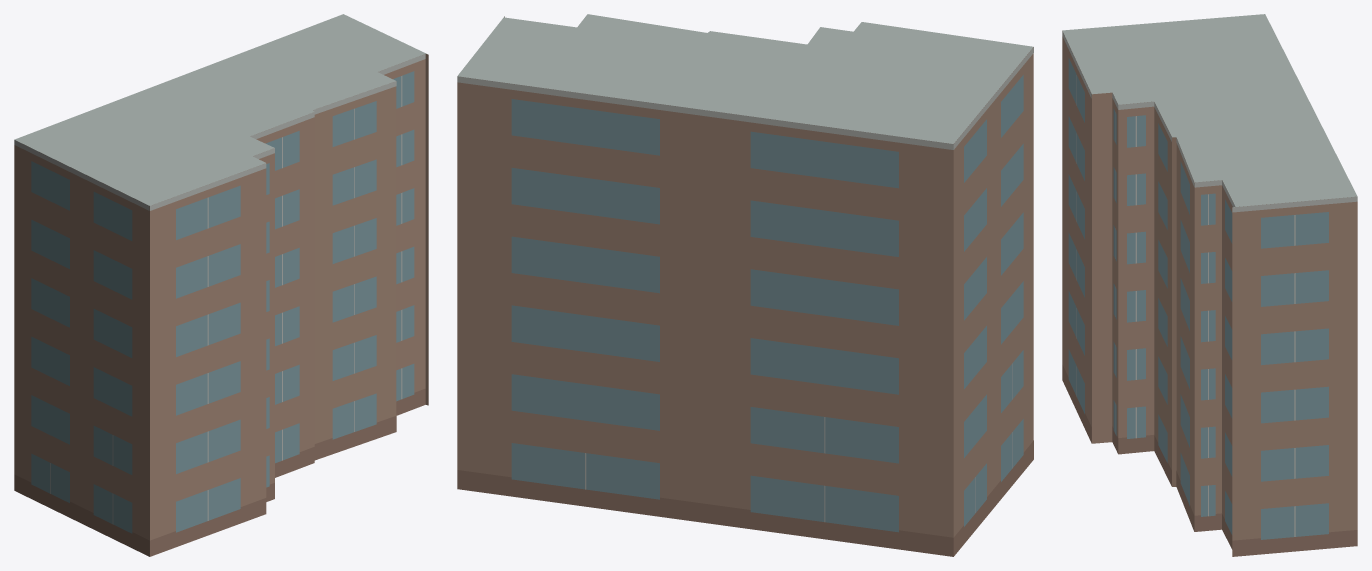
The model's file is survey-upis-32817354.glb.
The picture shows the model from 3 angles, left to right: view 1: azimuth 30°, elevation 25°; view 2: azimuth 150°, elevation 25°; view 3: azimuth 270°, elevation 25°; orthographic projection. The views are drawn at different scales.
Parts seen in each view (by area): view 1: survey-upis-32817354.tmp; view 2: survey-upis-32817354.tmp; view 3: survey-upis-32817354.tmp.
Boxes of the visible parts, x1,y1,x2,y2 form: survey-upis-32817354.tmp: (14,14,428,556); survey-upis-32817354.tmp: (457,14,1033,556); survey-upis-32817354.tmp: (1062,14,1357,556).
Bounding box in the file's own units: 19.71 × 16.6 × 12.72.
